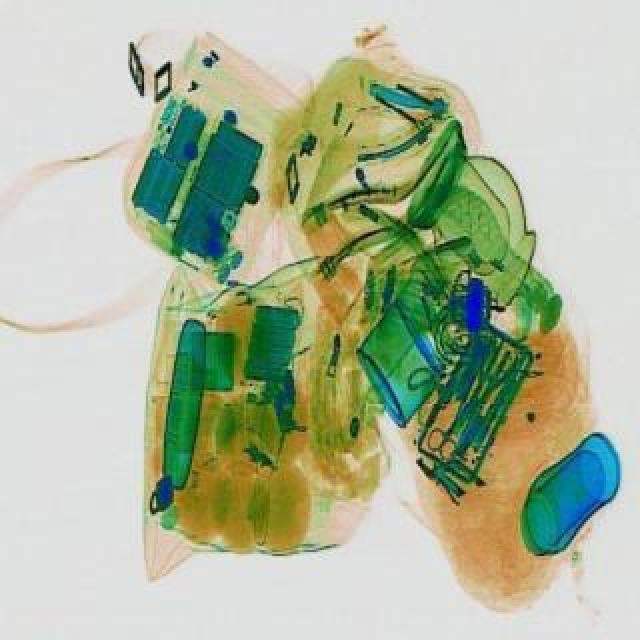pliers: (422, 394, 480, 458)
wrench: (446, 338, 520, 426)
